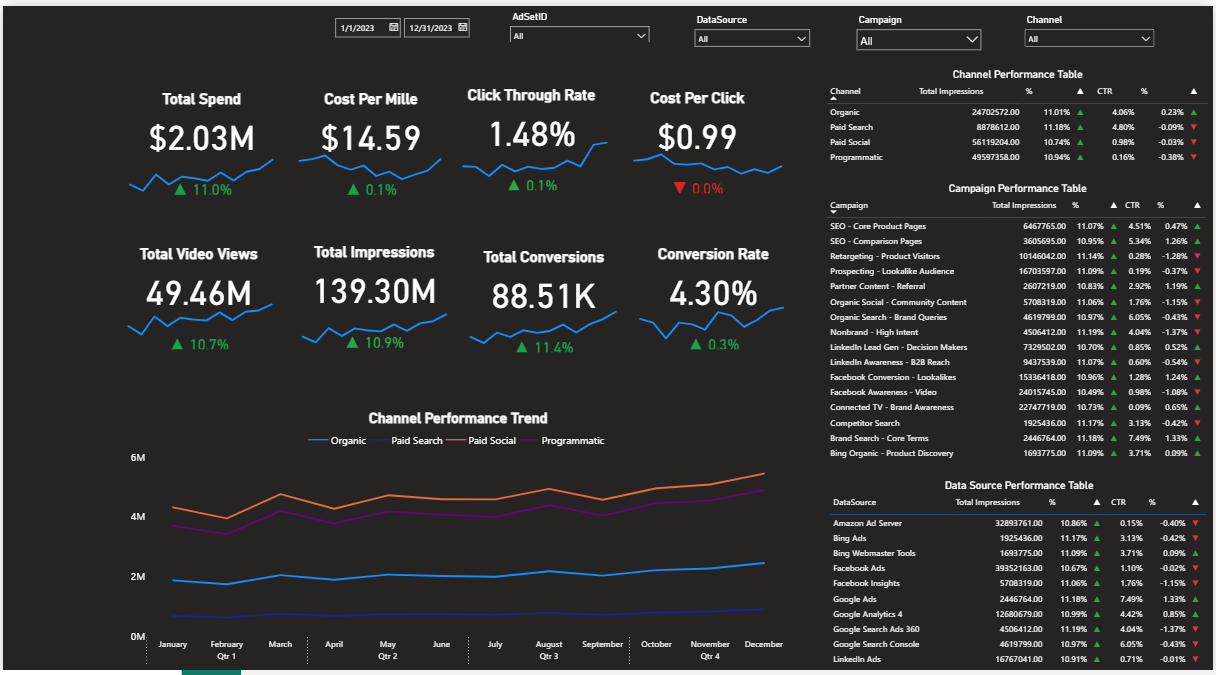

What the dashboard file says about the page in this screenshot:
{"tool":"powerbi","page":{"name":"Marketing Overview ","canvas":[1920,1080],"ordinal":0},"visuals":[{"type":"slicer","fields":{"Values":["DimCampaign.DataSource"]},"box":[1087.5,7.5,202.5,60],"z":0},{"type":"slicer","fields":{"Values":["DimCampaign.Channel"]},"box":[1612.5,7.5,225,62.5],"z":1000},{"type":"slicer","fields":{"Values":["DimCampaign.Campaign"]},"box":[1345,7.5,217.5,67.5],"z":2000},{"type":"slicer","fields":{"Values":["DimDate.Date"]},"box":[515,10,232.5,55],"z":3000},{"type":"slicer","fields":{"Values":["FactMarketingDaily.AdSetID"]},"box":[795.2,2.4,240.5,54.8],"z":4000},{"type":"cardVisual","title":"Total Spend","fields":{"Data":["FactMarketingDaily.Total Spend","FactMarketingDaily.Spend KPI Display"]},"box":[190.2,132.8,250,189.7],"z":5000},{"type":"cardVisual","title":"Cost Per Mille","fields":{"Data":["FactMarketingDaily.CPM","FactMarketingDaily.CPM KPI Display"]},"box":[462.7,132.8,244.8,187.9],"z":6000},{"type":"cardVisual","title":"Click Through Rate","fields":{"Data":["FactMarketingDaily.CTR","FactMarketingDaily.CTR KPI Display"]},"box":[707.7,125.3,263.8,177.6],"z":7000},{"type":"cardVisual","title":"Cost Per Click","fields":{"Data":["FactMarketingDaily.CPC","FactMarketingDaily.CPC KPI Display"]},"box":[960.2,130.3,285.1,191.5],"z":8000},{"type":"cardVisual","title":"Total Video Views","fields":{"Data":["FactMarketingDaily.Total VideoViews","FactMarketingDaily.VideoViews KPI Display"]},"box":[184.9,378.1,250,191.4],"z":9000},{"type":"cardVisual","title":"Total Impressions","fields":{"Data":["FactMarketingDaily.Total Impressions","FactMarketingDaily.Impressions KPI Display"]},"box":[469.4,376.7,240.5,185.7],"z":10000},{"type":"cardVisual","title":"Total Conversions","fields":{"Data":["FactMarketingDaily.Total Conversions","FactMarketingDaily.Conversions KPI Display"]},"box":[747.4,383.1,221.8,191.1],"z":11000},{"type":"cardVisual","title":"Conversion Rate","fields":{"Data":["FactMarketingDaily.Conversion Rate","FactMarketingDaily.Conversion Rate KPI Display"]},"box":[997.4,378.1,260.3,186.2],"z":12000},{"type":"lineChart","fields":{"Category":["DimDate.Date.Variation.Date Hierarchy.Month"],"Y":["FactMarketingDaily.Total Spend"]},"box":[187.7,215.3,252.5,87.5],"z":13000},{"type":"lineChart","fields":{"Category":["DimDate.Date.Variation.Date Hierarchy.Month"],"Y":["FactMarketingDaily.CPM"]},"box":[457.7,210.3,250,82.5],"z":14000},{"type":"lineChart","fields":{"Category":["DimDate.Date.Variation.Date Hierarchy.Month"],"Y":["FactMarketingDaily.CTR"]},"box":[717.7,200.3,254.2,87.4],"z":15000},{"type":"lineChart","fields":{"Category":["DimDate.Date.Variation.Date Hierarchy.Month"],"Y":["FactMarketingDaily.CPC"]},"box":[987.7,215.3,260.3,63.8],"z":16000},{"type":"lineChart","fields":{"Category":["DimDate.Date.Variation.Date Hierarchy.Month"],"Y":["FactMarketingDaily.Total VideoViews"]},"box":[184.9,453.1,253.4,86.2],"z":17000},{"type":"lineChart","fields":{"Category":["DimDate.Date.Variation.Date Hierarchy.Month"],"Y":["FactMarketingDaily.Conversion Rate"]},"box":[997.4,450.6,253.4,87.9],"z":18000},{"type":"lineChart","fields":{"Category":["DimDate.Date.Variation.Date Hierarchy.Month"],"Y":["FactMarketingDaily.Total Conversions"]},"box":[729,455.2,257.1,88.1],"z":19000},{"type":"lineChart","fields":{"Category":["DimDate.Date.Variation.Date Hierarchy.Month"],"Y":["FactMarketingDaily.Total Impressions"]},"box":[462.4,470.6,254.2,87.4],"z":20000},{"type":"tableEx","title":"Channel Performance Table","fields":{"Values":["DimCampaign.Channel","FactMarketingDaily.Total Impressions","FactMarketingDaily.Impressions Change %","FactMarketingDaily.Impressions Indicator","FactMarketingDaily.CTR","FactMarketingDaily.CTR Change %","FactMarketingDaily.CTR Indicator"]},"box":[1302.4,97.6,616.7,164.3],"z":21000},{"type":"tableEx","title":"Data Source Performance Table","fields":{"Values":["DimCampaign.DataSource","FactMarketingDaily.Total Impressions","FactMarketingDaily.Impressions Change %","FactMarketingDaily.Impressions Indicator","FactMarketingDaily.CTR","FactMarketingDaily.CTR Change %","FactMarketingDaily.CTR Indicator"]},"box":[1307.1,749,611.9,331],"z":22000},{"type":"tableEx","title":"Campaign Performance Table","fields":{"Values":["DimCampaign.Campaign","FactMarketingDaily.Total Impressions","FactMarketingDaily.Impressions Change %","FactMarketingDaily.Impressions Indicator","FactMarketingDaily.CTR","FactMarketingDaily.CTR Change %","FactMarketingDaily.CTR Indicator"]},"box":[1302.4,278.6,616.7,454.8],"z":23000},{"type":"lineChart","title":"Channel Performance Trend ","fields":{"Category":["DimDate.Date.Variation.Date Hierarchy.Quarter","DimDate.Date.Variation.Date Hierarchy.Month"],"Series":["DimCampaign.Channel"],"Y":["FactMarketingDaily.Total Impressions"]},"box":[197.6,640.5,1050,414.3],"z":24000}]}

Visuals, with their boxes in screenshot pixels (x1, y1, x2, y2), scaled from the page's 1920x1080 canvas onto the 1216x675 screenshot:
slicer - DimCampaign.DataSource: crop(689, 5, 817, 42)
slicer - DimCampaign.Channel: crop(1021, 5, 1164, 44)
slicer - DimCampaign.Campaign: crop(852, 5, 990, 47)
slicer - DimDate.Date: crop(326, 6, 473, 41)
slicer - FactMarketingDaily.AdSetID: crop(504, 2, 656, 36)
"Total Spend" cardVisual: crop(120, 83, 279, 202)
"Cost Per Mille" cardVisual: crop(293, 83, 448, 200)
"Click Through Rate" cardVisual: crop(448, 78, 615, 189)
"Cost Per Click" cardVisual: crop(608, 81, 789, 201)
"Total Video Views" cardVisual: crop(117, 236, 275, 356)
"Total Impressions" cardVisual: crop(297, 235, 450, 352)
"Total Conversions" cardVisual: crop(473, 239, 614, 359)
"Conversion Rate" cardVisual: crop(632, 236, 797, 353)
lineChart - DimDate.Date.Variation.Date Hierarchy.Month x FactMarketingDaily.Total Spend: crop(119, 135, 279, 189)
lineChart - DimDate.Date.Variation.Date Hierarchy.Month x FactMarketingDaily.CPM: crop(290, 131, 448, 183)
lineChart - DimDate.Date.Variation.Date Hierarchy.Month x FactMarketingDaily.CTR: crop(455, 125, 616, 180)
lineChart - DimDate.Date.Variation.Date Hierarchy.Month x FactMarketingDaily.CPC: crop(626, 135, 790, 174)
lineChart - DimDate.Date.Variation.Date Hierarchy.Month x FactMarketingDaily.Total VideoViews: crop(117, 283, 278, 337)
lineChart - DimDate.Date.Variation.Date Hierarchy.Month x FactMarketingDaily.Conversion Rate: crop(632, 282, 792, 337)
lineChart - DimDate.Date.Variation.Date Hierarchy.Month x FactMarketingDaily.Total Conversions: crop(462, 284, 625, 340)
lineChart - DimDate.Date.Variation.Date Hierarchy.Month x FactMarketingDaily.Total Impressions: crop(293, 294, 454, 349)
"Channel Performance Table" tableEx: crop(825, 61, 1215, 164)
"Data Source Performance Table" tableEx: crop(828, 468, 1215, 674)
"Campaign Performance Table" tableEx: crop(825, 174, 1215, 458)
"Channel Performance Trend " lineChart: crop(125, 400, 790, 659)
